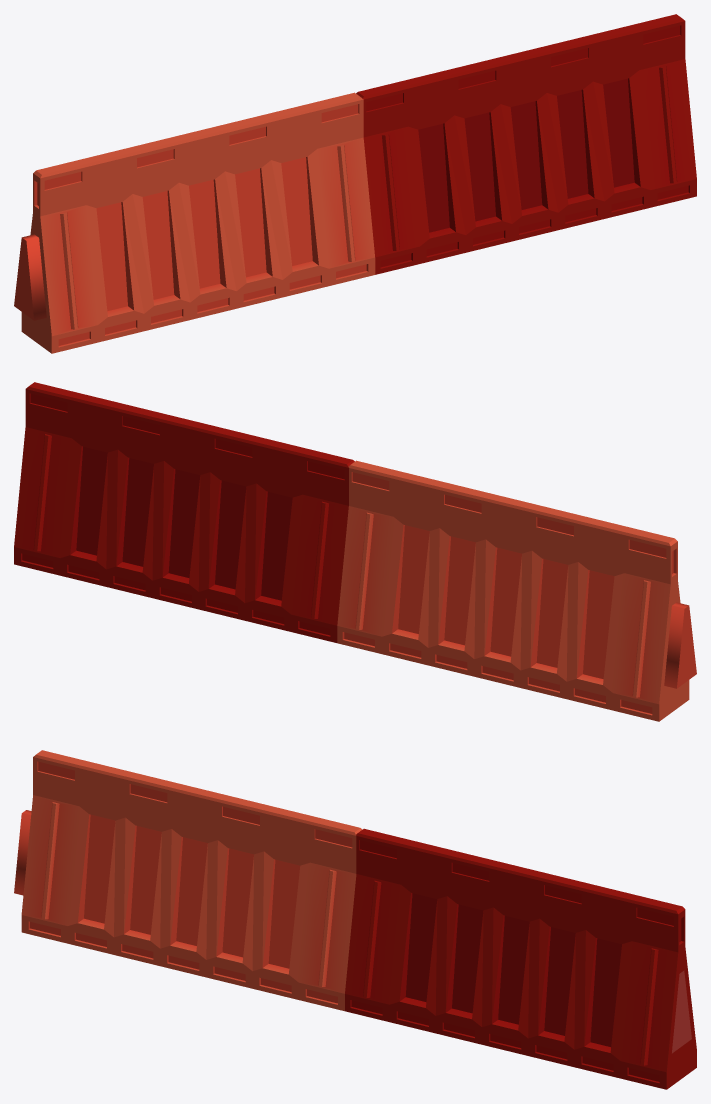
The model's file is PlasticBarrier_Double.fbx.
The picture shows the model from 3 angles, top to bottom: view 1: azimuth 30°, elevation 25°; view 2: azimuth 150°, elevation 25°; view 3: azimuth 330°, elevation 25°; orthographic projection.
Visible parts, largest first — view 1: PlasticBarrier_Double; view 2: PlasticBarrier_Double; view 3: PlasticBarrier_Double.
Part boxes in pixels (bbox=[...]): PlasticBarrier_Double: bbox=[14, 14, 696, 353]; PlasticBarrier_Double: bbox=[14, 382, 696, 721]; PlasticBarrier_Double: bbox=[14, 750, 696, 1089].
Size of the model in its own units: 557 by 137 by 48.51.
